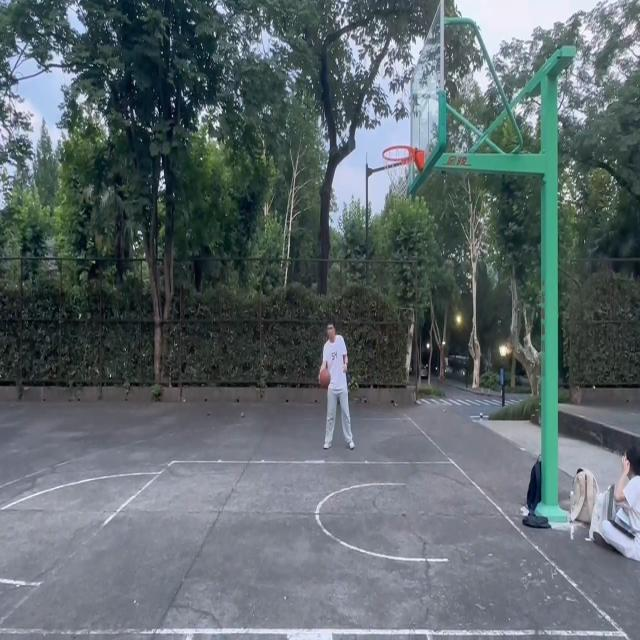basketball: (382, 146, 426, 202)
rim: (320, 368, 330, 388)
